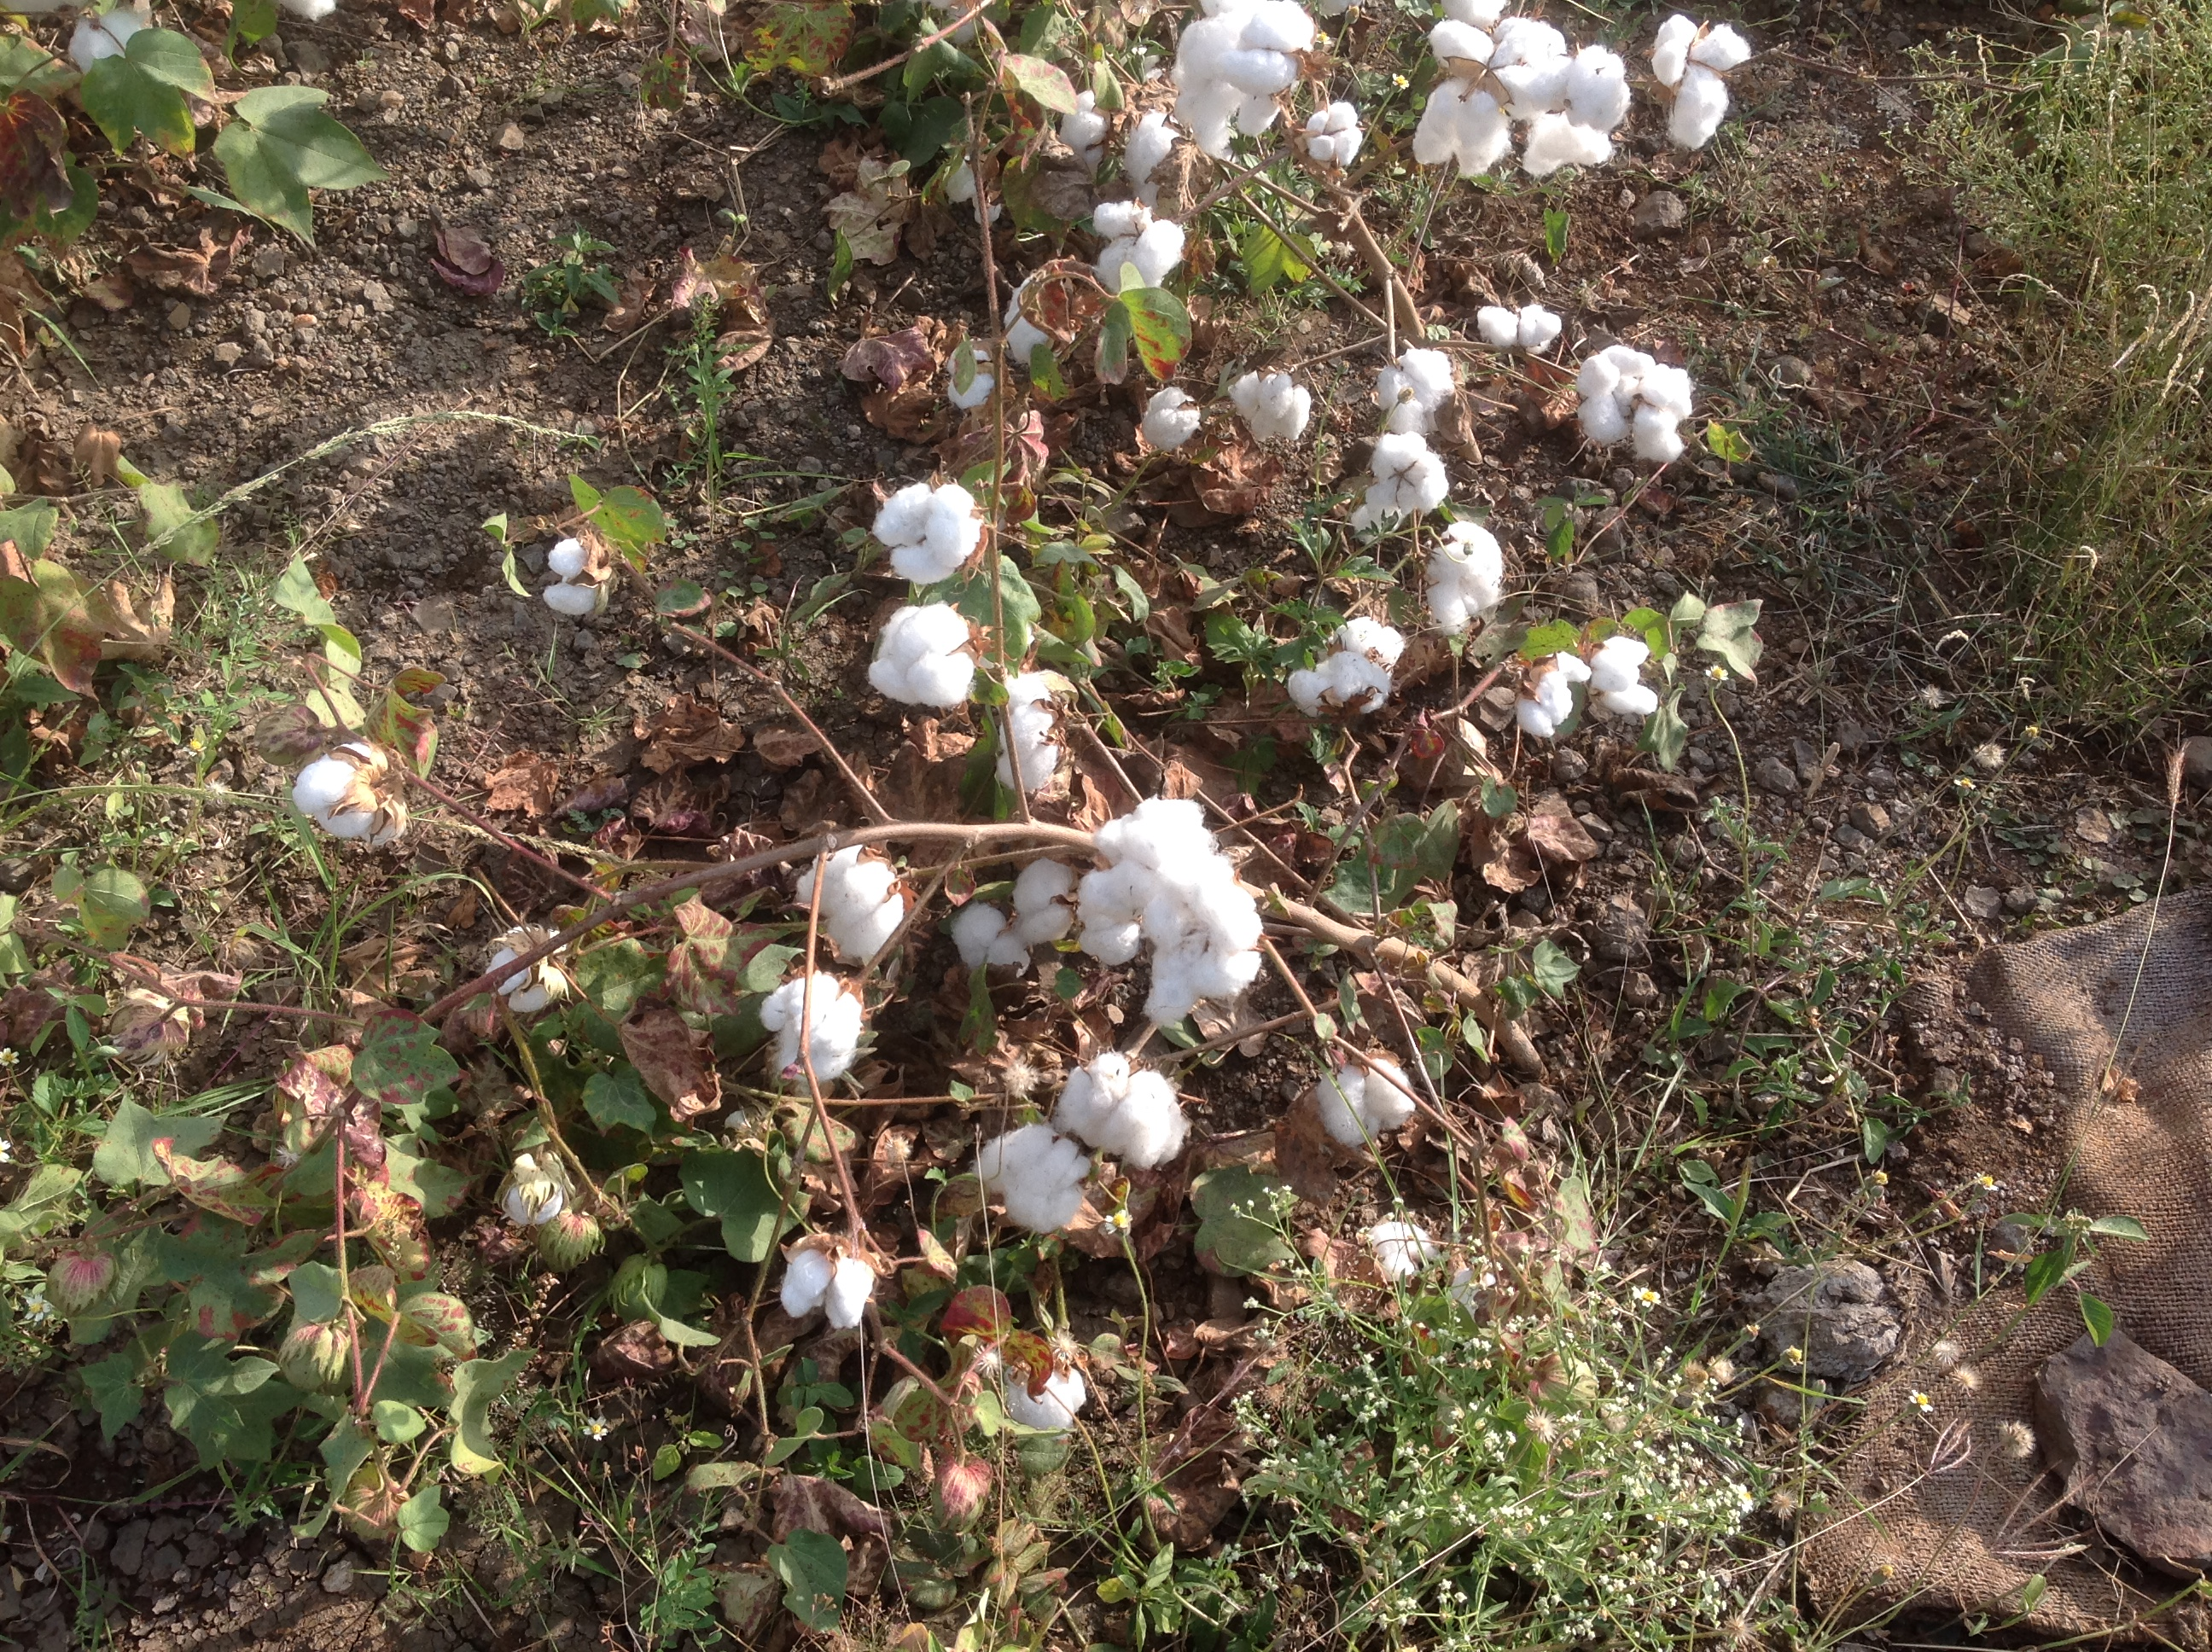cotton: (1086, 798, 1247, 1032), (1410, 17, 1572, 180), (1171, 0, 1303, 175), (1567, 347, 1704, 496), (947, 842, 1088, 980), (961, 1116, 1100, 1253), (959, 1317, 1109, 1440), (972, 675, 1102, 814), (1053, 1053, 1202, 1173), (1641, 7, 1757, 154), (1265, 618, 1424, 717), (1398, 521, 1527, 642), (291, 737, 429, 847), (1050, 78, 1187, 187), (793, 836, 913, 956), (758, 970, 876, 1088), (1296, 1039, 1426, 1144), (862, 606, 985, 710), (874, 481, 991, 585), (782, 1227, 895, 1329), (1083, 193, 1190, 297), (1572, 633, 1676, 734), (1367, 342, 1468, 446), (62, 7, 160, 106), (1553, 42, 1626, 170), (996, 264, 1088, 363), (1230, 363, 1320, 463), (1509, 647, 1589, 757), (1358, 436, 1457, 521), (486, 927, 578, 1012), (550, 536, 637, 621), (1128, 371, 1209, 460), (1471, 302, 1565, 363), (1310, 101, 1376, 182), (933, 344, 998, 401)
